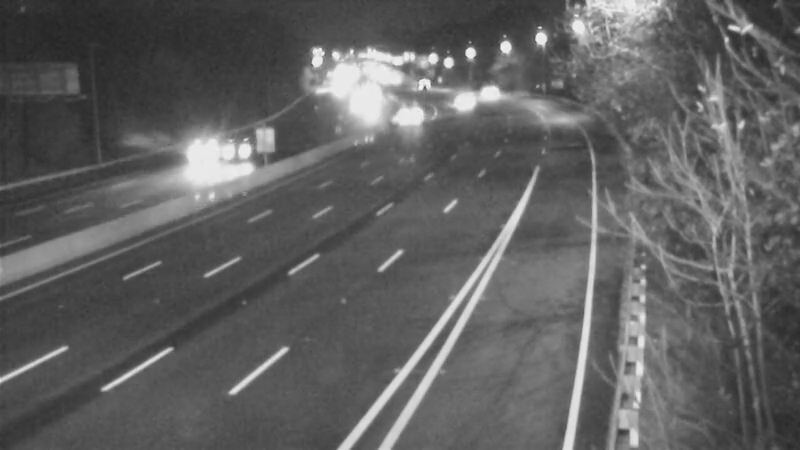vehicle: (204, 114, 284, 194), (156, 118, 236, 198), (393, 61, 443, 111), (459, 64, 509, 114), (434, 77, 484, 127), (379, 90, 429, 140)
